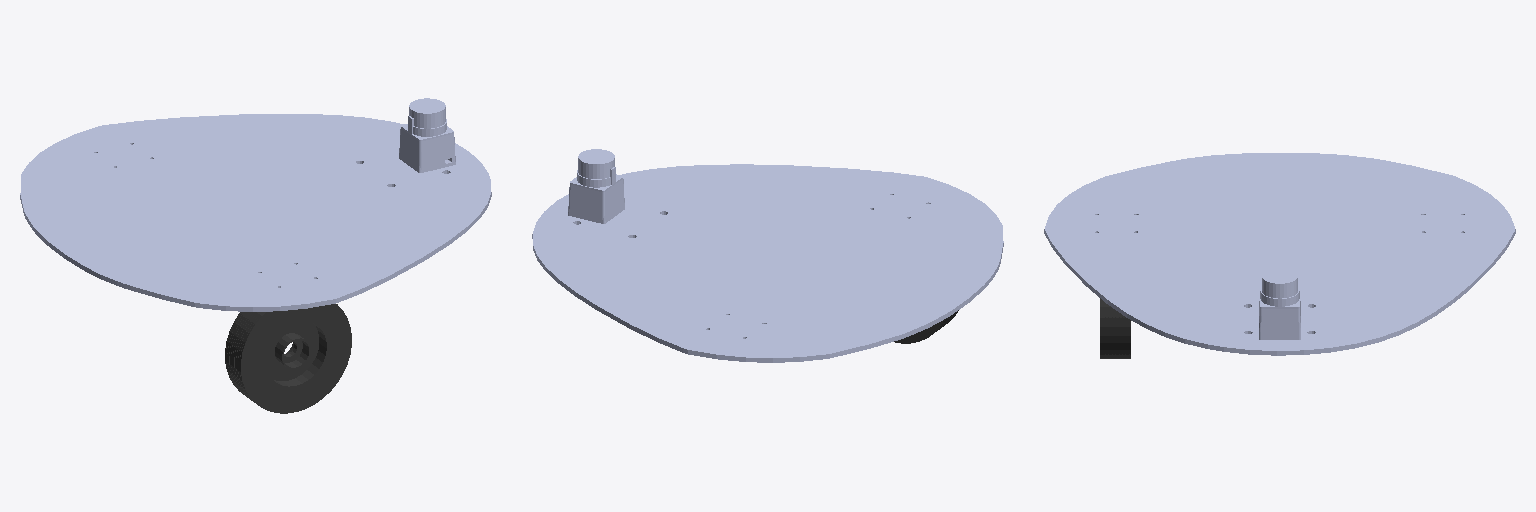
URDF robot description (hdf_model):
<robot
  name="hdf_model">
  <link
    name="base_link">
    <inertial>
      <origin
        xyz="0.0710712962197142 -0.000137753873757876 -0.0472356807568853"
        rpy="0 0 0" />
      <mass
        value="2.8968201286225" />
      <inertia
        ixx="0.0435515415861913"
        ixy="-7.54353183930224E-05"
        ixz="-0.0120679749993695"
        iyy="0.0775488218939522"
        iyz="3.02473586563858E-05"
        izz="0.105083705856808" />
    </inertial>
    <visual>
      <origin
        xyz="0 0 0"
        rpy="0 0 0" />
      <geometry>
        <mesh
          filename="package://hdf_model/meshes/base_link.STL" />
      </geometry>
      <material
        name="">
        <color
          rgba="0.792156862745098 0.819607843137255 0.933333333333333 1" />
      </material>
    </visual>
    <collision>
      <origin
        xyz="0 0 0"
        rpy="0 0 0" />
      <geometry>
        <mesh
          filename="package://hdf_model/meshes/base_link.STL" />
      </geometry>
    </collision>
  </link>
  <link
    name="front_left_wheel_link">
    <inertial>
      <origin
        xyz="0 -6.3295189589585E-07 0"
        rpy="0 0 0" />
      <mass
        value="0.482131555796721" />
      <inertia
        ixx="0.000893944886202995"
        ixy="-4.51240238343766E-20"
        ixz="1.17525821431534E-20"
        iyy="0.00168163508591572"
        iyz="-3.96864618172625E-21"
        izz="0.000893944886202995" />
    </inertial>
    <visual>
      <origin
        xyz="0 0 0"
        rpy="0 0 0" />
      <geometry>
        <mesh
          filename="package://hdf_model/meshes/front_left_wheel_link.STL" />
      </geometry>
      <material
        name="">
        <color
          rgba="0.294117647058824 0.294117647058824 0.294117647058824 1" />
      </material>
    </visual>
    <collision>
      <origin
        xyz="0 0 0"
        rpy="0 0 0" />
      <geometry>
        <mesh
          filename="package://hdf_model/meshes/front_left_wheel_link.STL" />
      </geometry>
    </collision>
  </link>
  <joint
    name="front_left_wheel_joint"
    type="continuous">
    <origin
      xyz="-0.0774999999999994 0.1925 -0.0930000000000001"
      rpy="1.29699056065384E-16 0.000304917468774119 3.60306029014719E-15" />
    <parent
      link="base_link" />
    <child
      link="front_left_wheel_link" />
    <axis
      xyz="0 -1 0" />
  </joint>
  <link
    name="front_right_wheel_link">
    <inertial>
      <origin
        xyz="0 -6.3295189589585E-07 0"
        rpy="0 0 0" />
      <mass
        value="0.482131555796721" />
      <inertia
        ixx="0.000893944886202993"
        ixy="-2.15673142206335E-20"
        ixz="-1.62630325872826E-19"
        iyy="0.00168163508591572"
        iyz="1.16692499357991E-20"
        izz="0.000893944886202994" />
    </inertial>
    <visual>
      <origin
        xyz="0 0 0"
        rpy="0 0 0" />
      <geometry>
        <mesh
          filename="package://hdf_model/meshes/front_right_wheel_link.STL" />
      </geometry>
      <material
        name="">
        <color
          rgba="0.294117647058824 0.294117647058824 0.294117647058824 1" />
      </material>
    </visual>
    <collision>
      <origin
        xyz="0 0 0"
        rpy="0 0 0" />
      <geometry>
        <mesh
          filename="package://hdf_model/meshes/front_right_wheel_link.STL" />
      </geometry>
    </collision>
  </link>
  <joint
    name="front_right_wheel_joint"
    type="continuous">
    <origin
      xyz="-0.0774999999999989 -0.192500000000001 -0.0930000000000001"
      rpy="1.54507720819671E-16 -0.580624336864947 3.51749903859331E-15" />
    <parent
      link="base_link" />
    <child
      link="front_right_wheel_link" />
    <axis
      xyz="0 -1 0" />
  </joint>
  <link
    name="laser_link">
    <inertial>
      <origin
        xyz="-8.54230302427539E-05 6.72214995819098E-05 0.0299775216686896"
        rpy="0 0 0" />
      <mass
        value="0.149621221992963" />
      <inertia
        ixx="8.91590299505418E-05"
        ixy="8.67289898114126E-08"
        ixz="4.3986338046771E-08"
        iyy="8.93716564388956E-05"
        iyz="-2.34056549904993E-07"
        izz="5.2029602781235E-05" />
    </inertial>
    <visual>
      <origin
        xyz="0 0 0"
        rpy="0 0 0" />
      <geometry>
        <mesh
          filename="package://hdf_model/meshes/laser_link.STL" />
      </geometry>
      <material
        name="">
        <color
          rgba="0.792156862745098 0.819607843137255 0.933333333333333 1" />
      </material>
    </visual>
    <collision>
      <origin
        xyz="0 0 0"
        rpy="0 0 0" />
      <geometry>
        <mesh
          filename="package://hdf_model/meshes/laser_link.STL" />
      </geometry>
    </collision>
  </link>
  <joint
    name="laser_joint"
    type="fixed">
    <origin
      xyz="0.220650000000521 0 0"
      rpy="2.01948391736579E-28 2.46519014539409E-32 5.03235953499442E-12" />
    <parent
      link="base_link" />
    <child
      link="laser_link" />
    <axis
      xyz="0 0 0" />
  </joint>
</robot>

--- Facts derived from the render (not from the file) ---
3 views of the same robot in one strip: view 1: azimuth 30°, elevation 25°; view 2: azimuth 150°, elevation 25°; view 3: azimuth 270°, elevation 25° (orthographic).
Robot: hdf_model — 4 links, 3 joints (2 continuous, 1 fixed); root link base_link; default pose: every joint at zero.
Visible links, largest first — view 1: base_link, front_right_wheel_link, laser_link; view 2: base_link, laser_link; view 3: base_link, laser_link, front_right_wheel_link.
Boxes of the visible links, bbox=[...] form: base_link: bbox=[20, 114, 491, 311]; front_right_wheel_link: bbox=[225, 304, 351, 413]; laser_link: bbox=[399, 98, 455, 172]; base_link: bbox=[532, 164, 1003, 362]; laser_link: bbox=[568, 149, 624, 223]; base_link: bbox=[1044, 153, 1515, 355]; laser_link: bbox=[1259, 268, 1300, 339]; front_right_wheel_link: bbox=[1100, 298, 1130, 358].
Size in the robot's own frame: 0.5496 by 0.5512 by 0.239 metres.
Meshes: 4 distinct files referenced, 3 mesh visuals loaded (3 binary STL); not drawn: 1 (reference not matched to a file when rendering).
